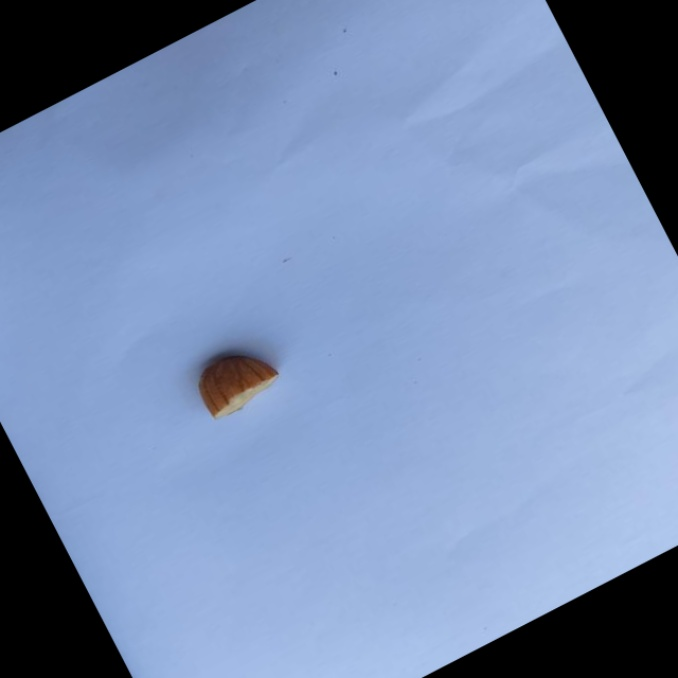grade4: (179, 327, 295, 431)
